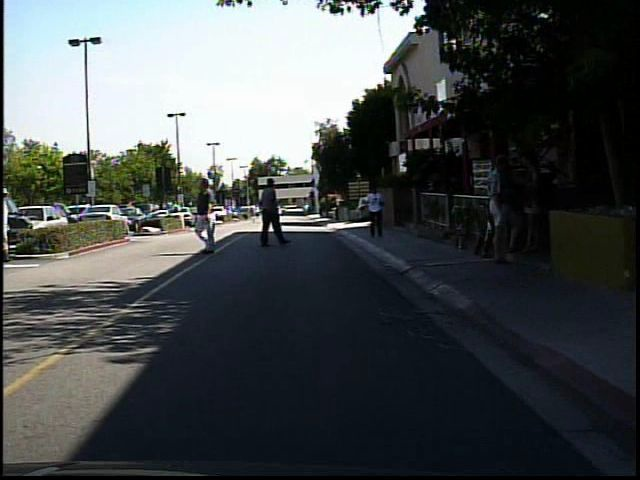person: (483, 148, 525, 267), (514, 151, 545, 259), (256, 173, 292, 251), (191, 173, 224, 257), (361, 178, 390, 241), (3, 182, 22, 265), (167, 196, 183, 228), (246, 200, 260, 225)
